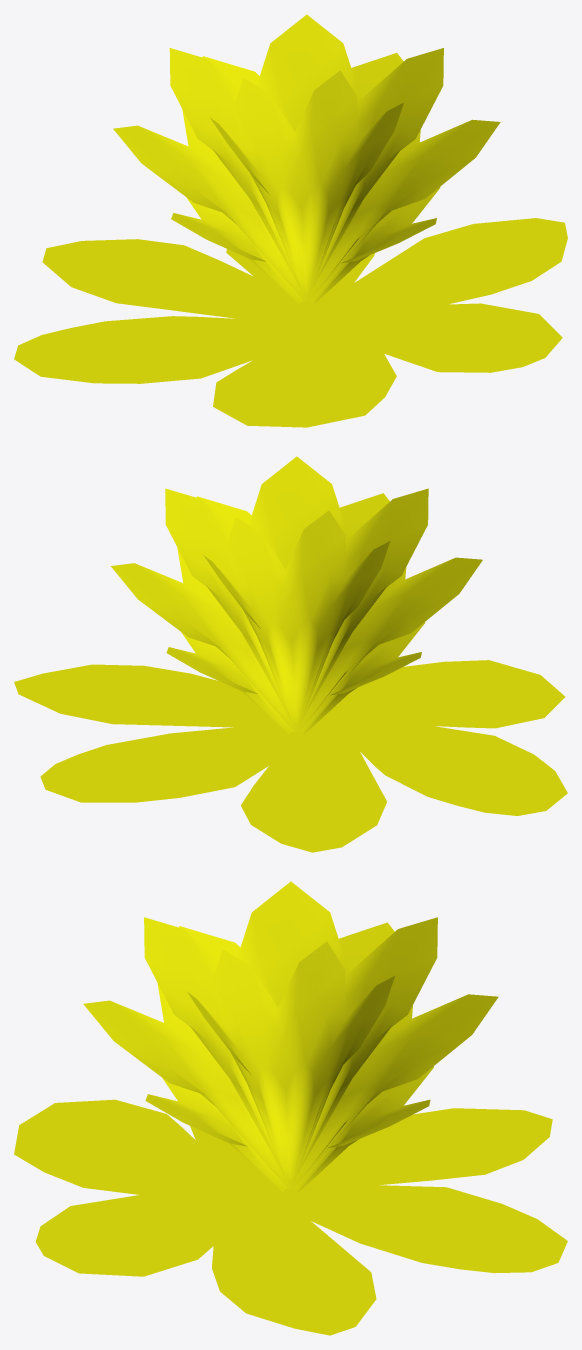
The model's file is Flower2.glb.
3 views of the same model, one above another, from view 1: azimuth 30°, elevation 25°; view 2: azimuth 150°, elevation 25°; view 3: azimuth 270°, elevation 25° (orthographic). The views are drawn at different scales.
Parts seen in each view (by area): view 1: polySurface1051; view 2: polySurface1051; view 3: polySurface1051.
Boxes of the visible parts, x1,y1,x2,y2 form: polySurface1051: (14, 14, 567, 427); polySurface1051: (14, 456, 567, 852); polySurface1051: (14, 881, 567, 1335).
Size of the model in its own units: 0.5802 by 0.231 by 0.47.
1 material, 1 textured.
